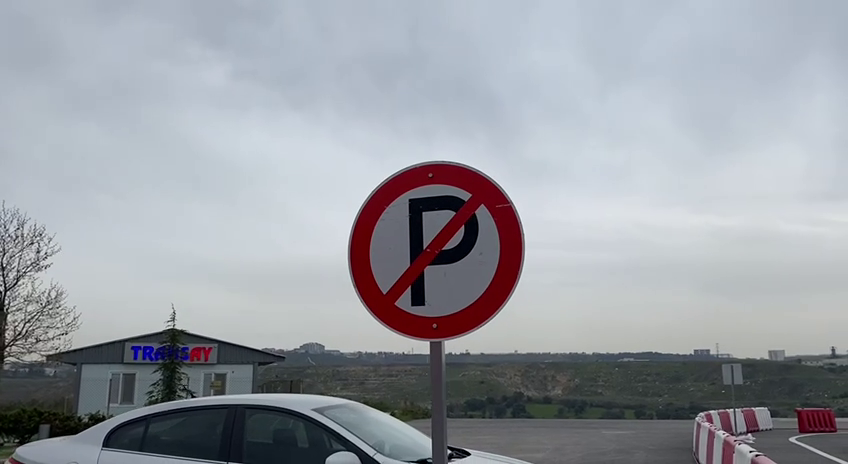noparking: (344, 158, 530, 342)
